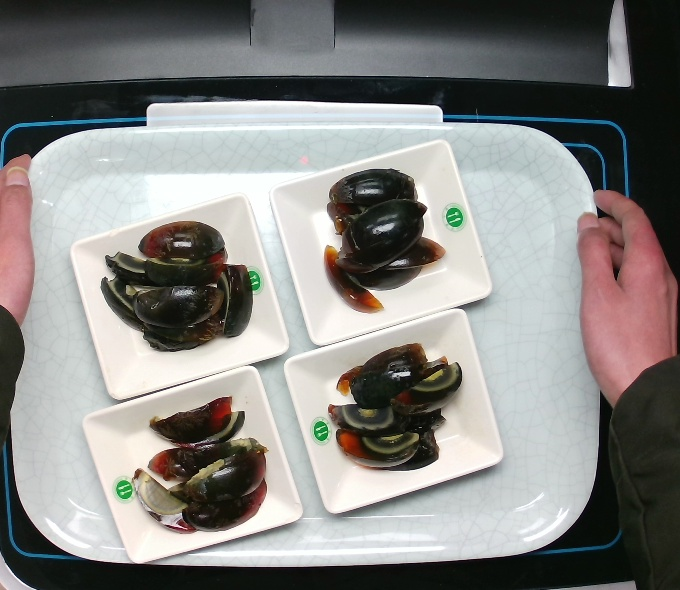wcq-PiDan: (90, 207, 259, 362), (121, 380, 277, 541), (305, 159, 445, 314), (321, 332, 466, 479)
